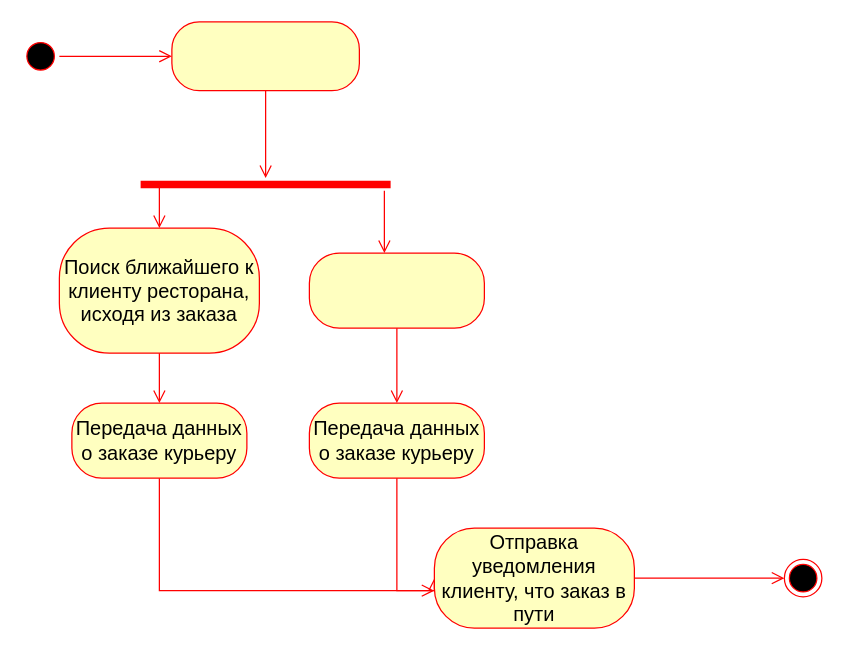
The diagram is 844 pixels wide and 650 high, and some of its shapes have lost their labels. The centre of each missing label's shape, as x and y in pixels:
"Поиск свободного курьера" goes at point 396,290.
"Получение заказа системой" goes at point 265,56.
